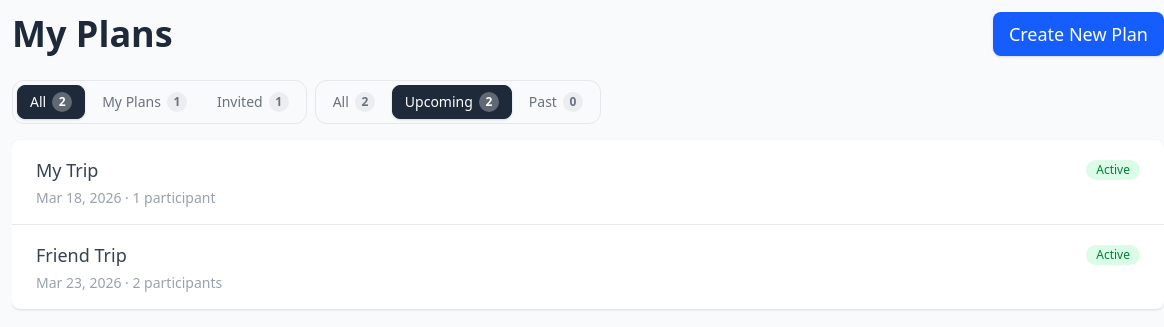
Scenario: PlansList › filters by owned when user has plans they own
Click the tab with test id "membership-filter-owned" at (145, 102), box [89,85,200,119]
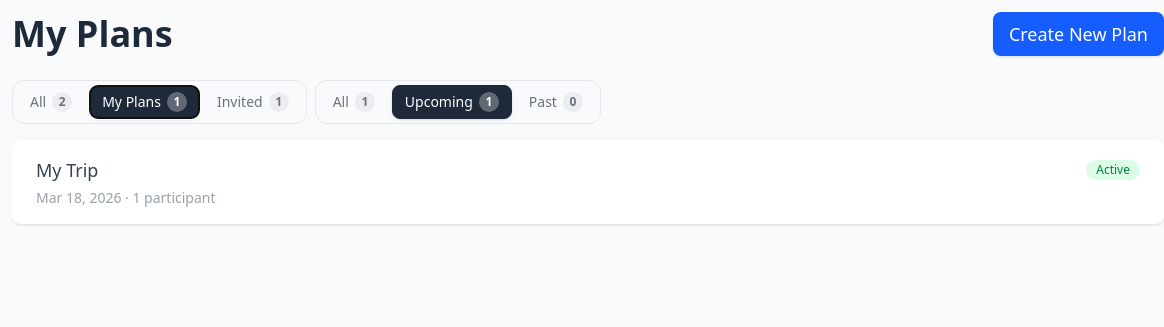
Expected: the text "My Trip" is shown, [36,156,98,184]
Result: the link "Friend Trip" is gone
